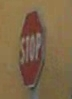stop: (16, 4, 48, 95)
